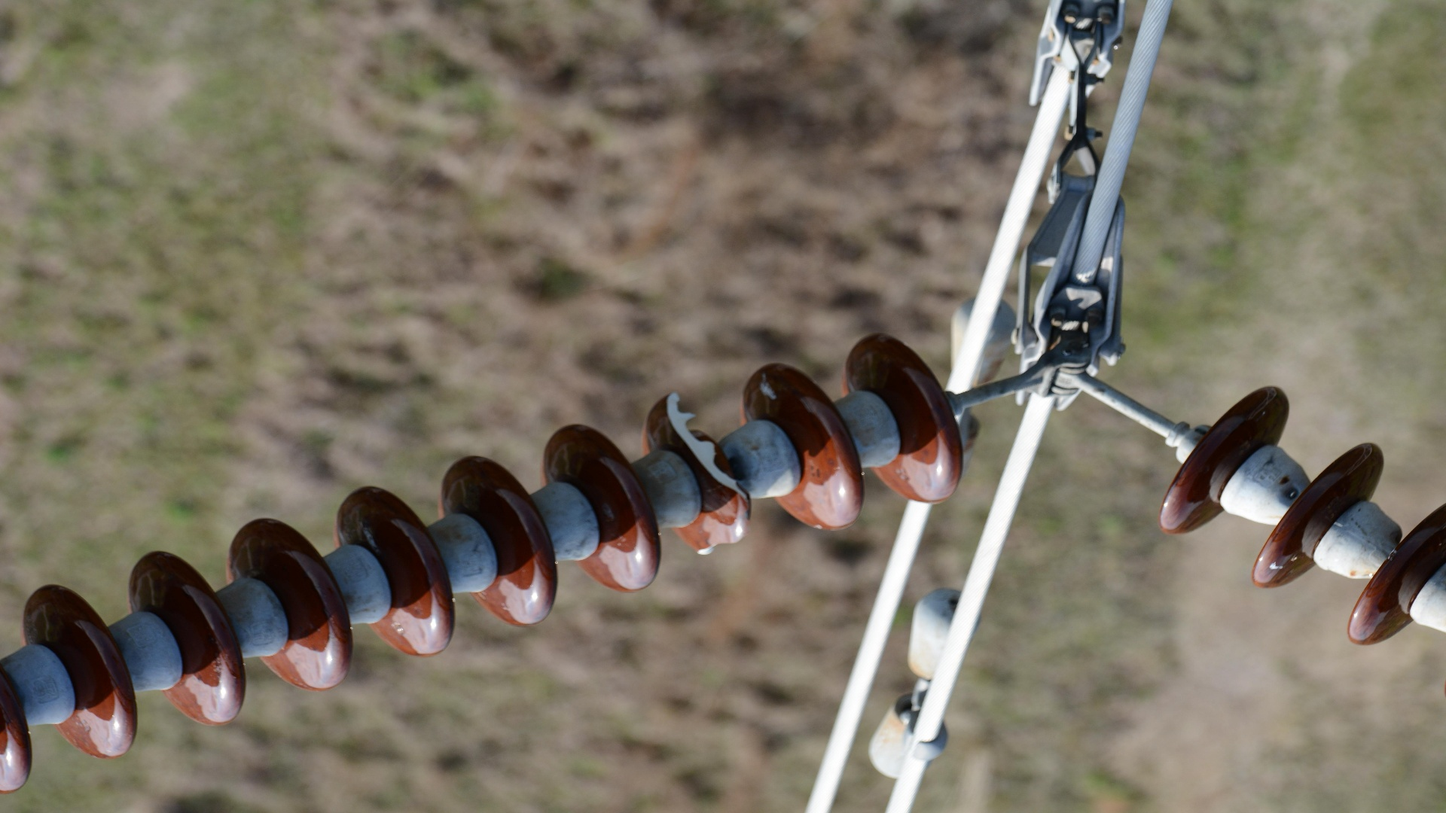insulator: (1, 327, 973, 800), (1145, 381, 1446, 652)
insulator_breakage: (659, 386, 751, 498), (691, 528, 748, 559)
